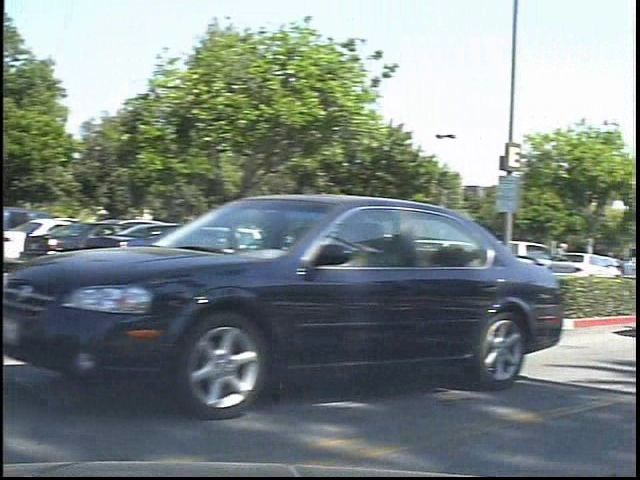person: (560, 234, 587, 290)
